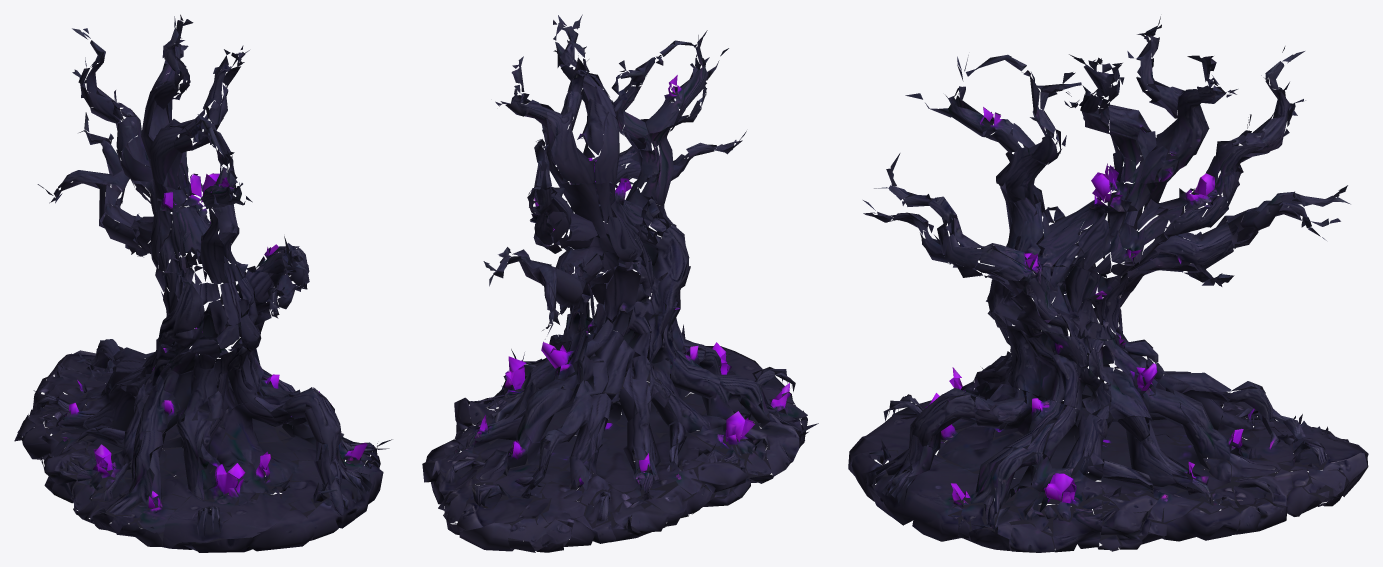
File: TripoDeadwoodTree.fbx
The picture shows the model from 3 angles, left to right: view 1: azimuth 30°, elevation 25°; view 2: azimuth 150°, elevation 25°; view 3: azimuth 270°, elevation 25°; orthographic projection. The views are drawn at different scales.
Parts seen in each view (by area): view 1: TripoDeadwoodTree; view 2: TripoDeadwoodTree; view 3: TripoDeadwoodTree.
Boxes of the visible parts, left/top/right/bottom form: TripoDeadwoodTree: left=14, top=14, right=392, bottom=552; TripoDeadwoodTree: left=422, top=14, right=818, bottom=552; TripoDeadwoodTree: left=848, top=16, right=1368, bottom=552.
Bounding box in the file's own units: 5.16 × 7.16 × 7.2.
1 material, 1 textured.
